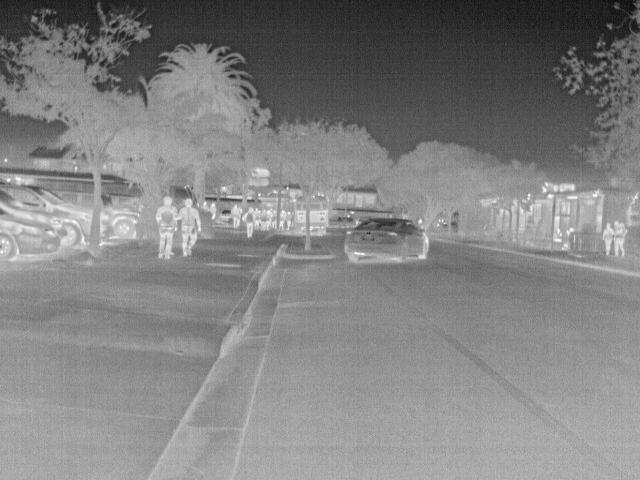car: (3, 181, 93, 251), (343, 218, 430, 264), (2, 200, 62, 264), (102, 208, 140, 240), (220, 207, 232, 224)
person: (151, 194, 182, 260), (177, 198, 203, 262), (602, 220, 620, 254), (613, 221, 630, 254), (241, 208, 256, 241), (229, 202, 242, 232), (278, 206, 292, 231), (258, 207, 270, 232), (209, 199, 222, 220), (552, 225, 567, 242)
